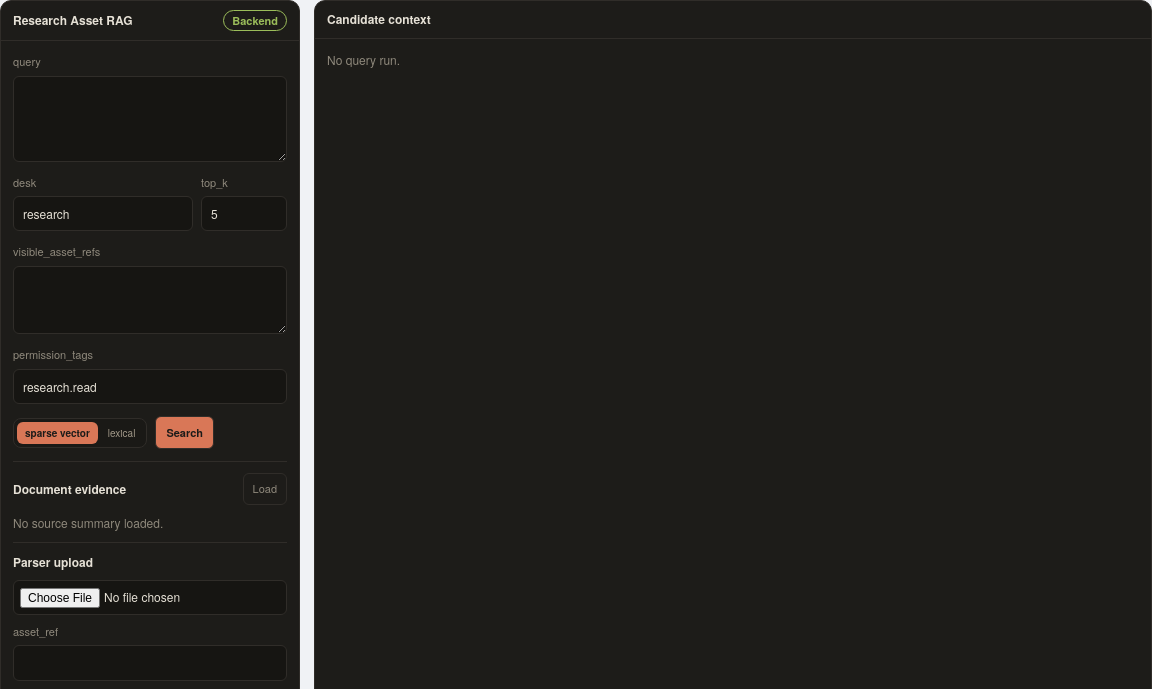
Test: ResearchRAGPanel › loads document source summary without raw document payload
Click the button with test id "doc-summary-load" at (265, 489), box top-left (242, 474), bottom-right (287, 505)
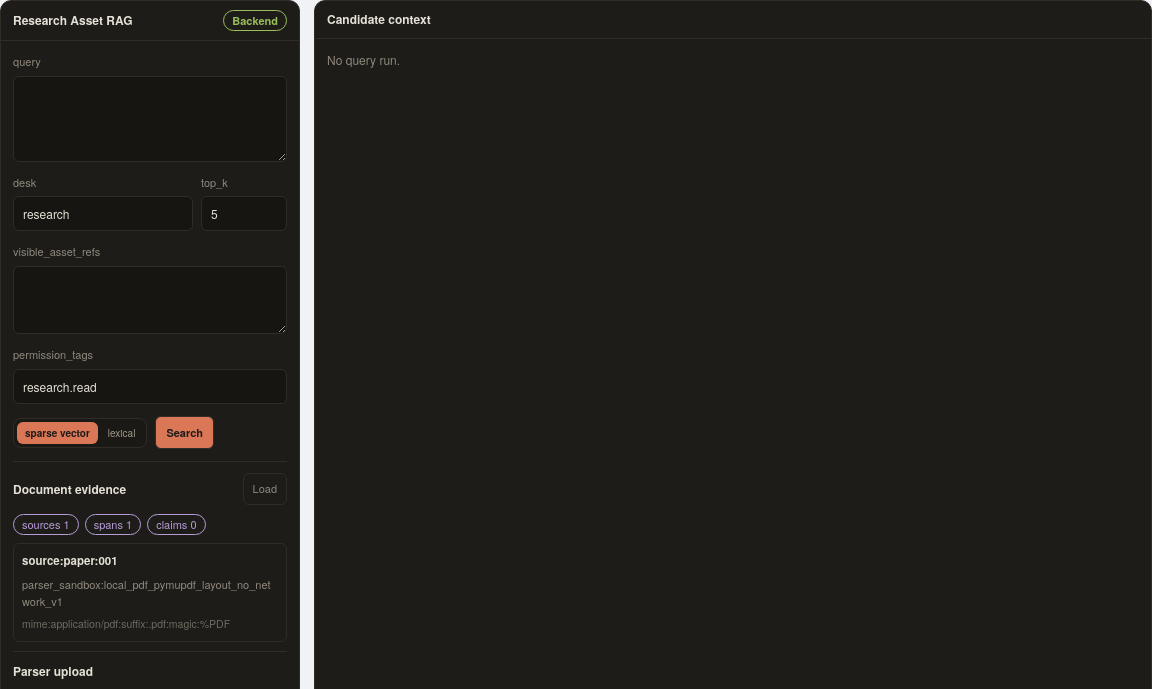
Now the text "source:paper:001" is shown, box top-left (22, 552), bottom-right (118, 570)
Now the text "parser_sandbox:local_pdf_pymupdf_layout_no_network_v1" is shown, box top-left (22, 576), bottom-right (278, 611)
Now the text "spans 1" is shown, box top-left (85, 514), bottom-right (141, 536)
